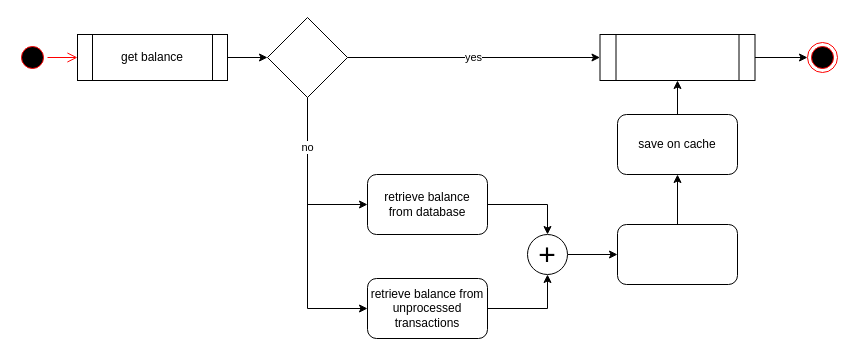
This 855x356 diagram has some shape labels left out. Each missing label, with the centre of its shape:
compute balance: the point at 677,254
has cache: the point at 307,57
return balance: the point at 677,57
